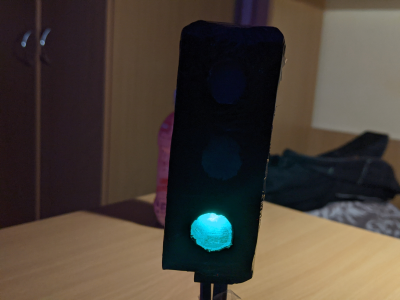trafficlight_green: (165, 31, 261, 274)
